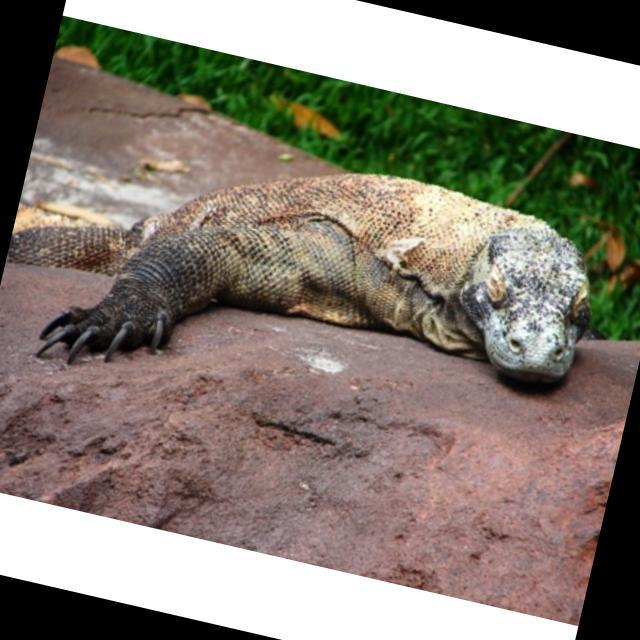KomodoDragon: (0, 90, 609, 484)
